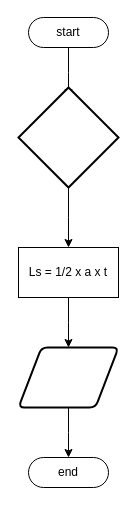
Some shapes in this 136 by 505 pixel diagram are drawn without their labels. The shapes that lost their labels are listed below. From the top down, each one's box as (x1, y1, x2, y2) in pixels, then its label:
(17, 86, 119, 188): Ls a t
(17, 346, 119, 408): Ls
